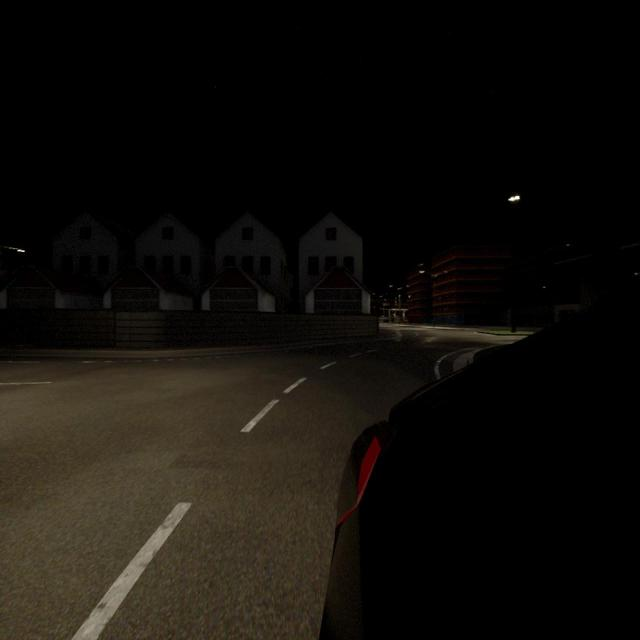Vehicle: (326, 294, 639, 638), (399, 320, 408, 324), (384, 318, 389, 322)
